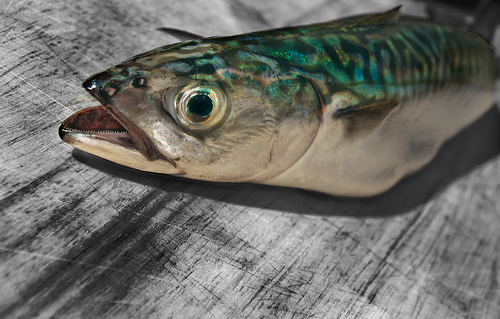fish: (57, 4, 499, 195)
